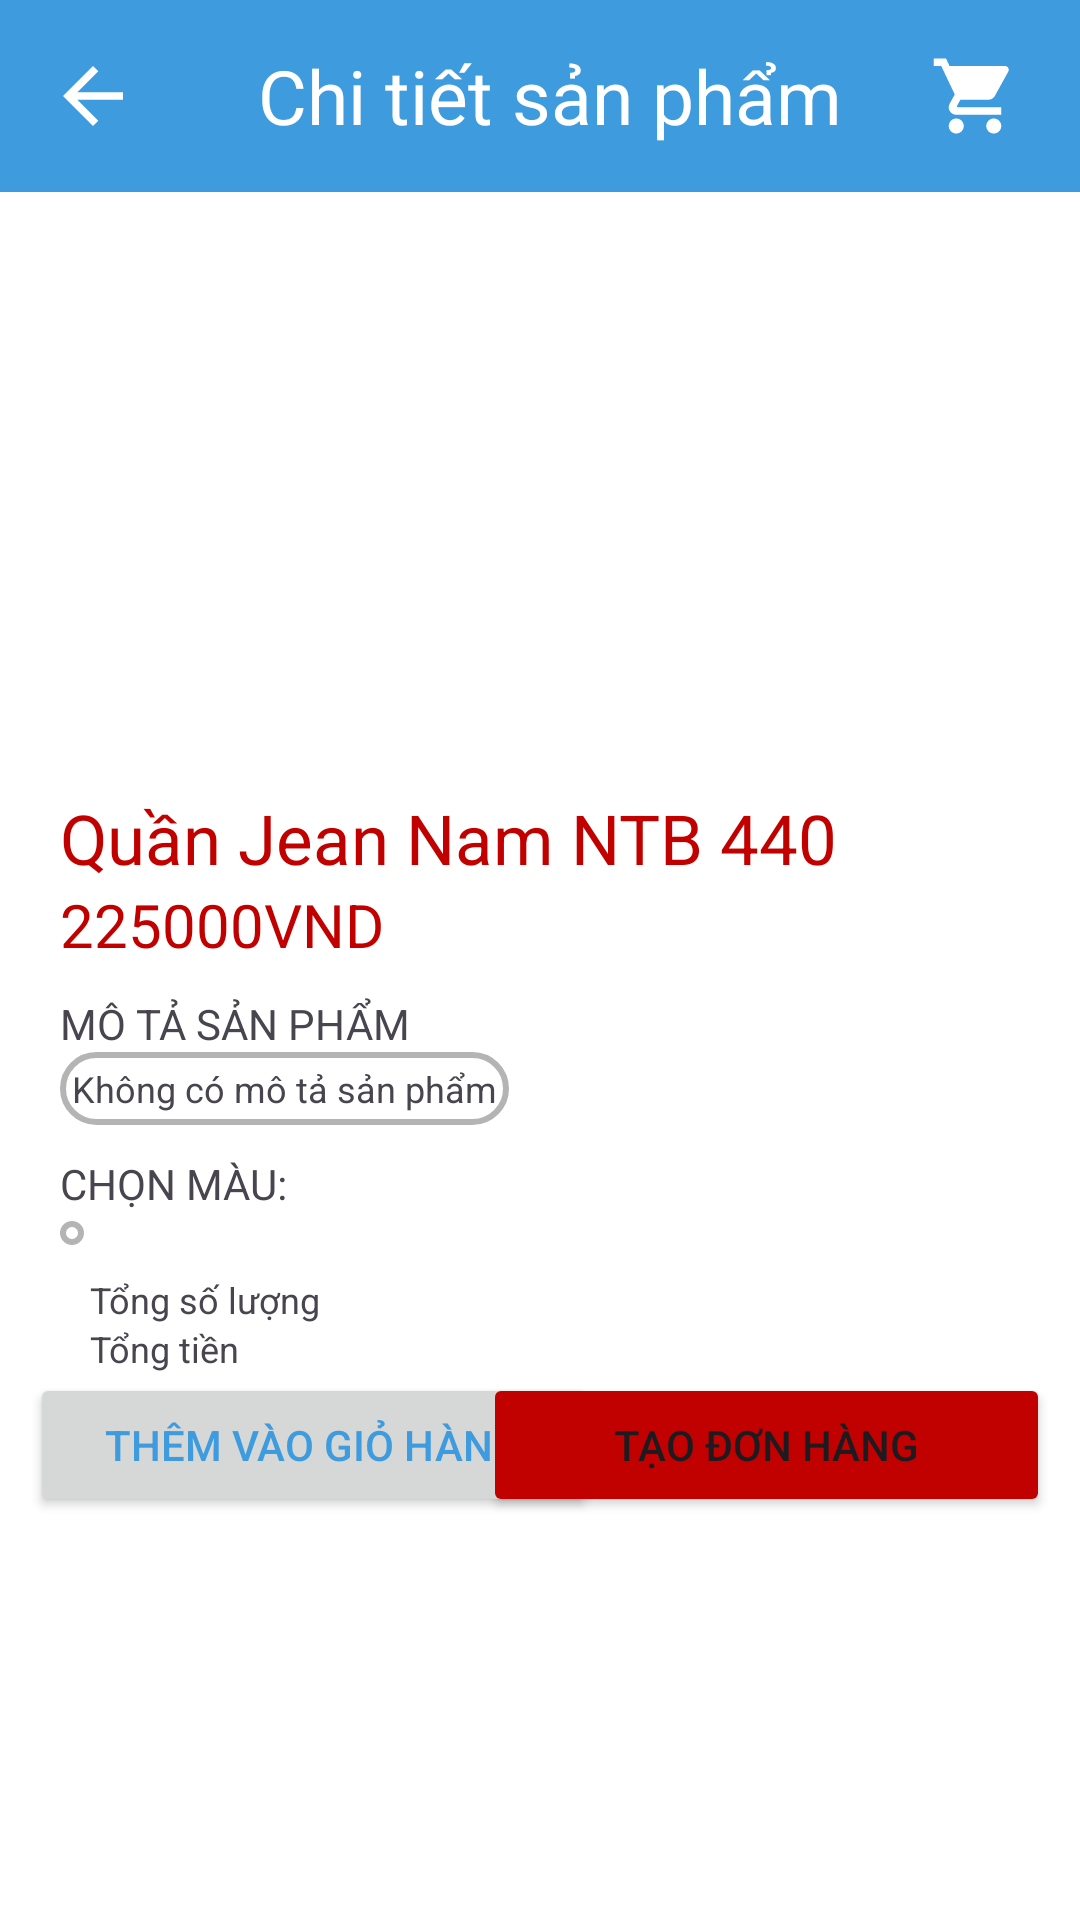

Icon click points for this 1080*1920 phone screenshot, format (x,y):
back: (93,96)
shopping cart: (971,96)
